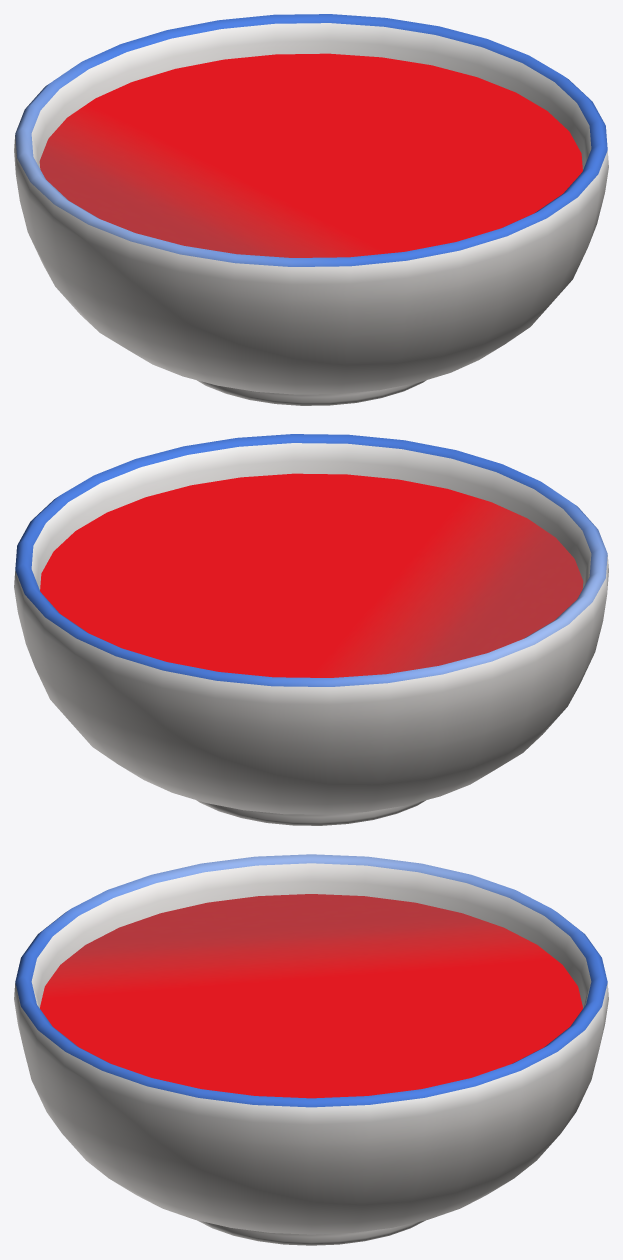
File: SoupTomato.glb
3 views of the same model, one above another, from view 1: azimuth 30°, elevation 25°; view 2: azimuth 150°, elevation 25°; view 3: azimuth 270°, elevation 25° (orthographic).
Parts seen in each view (by area): view 1: SoupTomato; view 2: SoupTomato; view 3: SoupTomato.
Boxes of the visible parts, bbox=[...] form: SoupTomato: bbox=[14, 14, 608, 405]; SoupTomato: bbox=[14, 434, 608, 825]; SoupTomato: bbox=[14, 854, 608, 1245].
Size of the model in its own units: 0.3116 by 0.1239 by 0.3116.
1 material, 1 textured.
